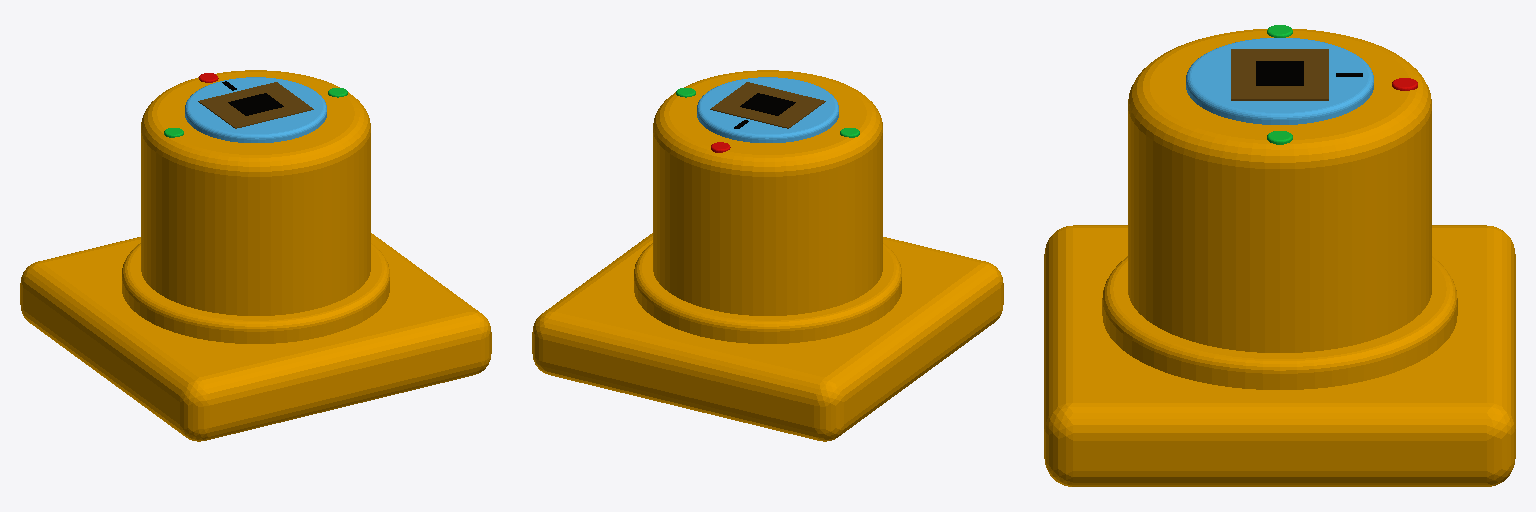
URDF robot description (lock):
<?xml version="1.0"?>
<!-- Generated by tools/build_assets.py - do not edit. -->
<robot name="lock">
  <link name="lock_base">
    <inertial><origin xyz="0.00000 0.00000 0.04750" rpy="0 0 0"/><mass value="2.0"/><inertia ixx="4.321e-03" ixy="0" ixz="0" iyy="4.321e-03" iyz="0" izz="5.633e-03"/></inertial>
    <visual><origin xyz="0 0 0" rpy="0 0 0"/><geometry><mesh filename="meshes/lock_plinth.obj" scale="1 1 1"/></geometry></visual>
    <visual><origin xyz="0 0 0" rpy="0 0 0"/><geometry><mesh filename="meshes/lock_housing.obj" scale="1 1 1"/></geometry></visual>
    <visual><origin xyz="0 0 0" rpy="0 0 0"/><geometry><mesh filename="meshes/lock_dot_red.obj" scale="1 1 1"/></geometry><material name="dot_red"><color rgba="0.85000 0.08000 0.06000 1.00000"/></material></visual>
    <visual><origin xyz="0 0 0" rpy="0 0 0"/><geometry><mesh filename="meshes/lock_dot_green.obj" scale="1 1 1"/></geometry><material name="dot_green"><color rgba="0.10000 0.75000 0.25000 1.00000"/></material></visual>
    <collision><origin xyz="0.00000 0.00000 0.01250" rpy="0.00000 0.00000 0.00000"/><geometry><box size="0.13000 0.13000 0.02500"/></geometry></collision>
    <collision><origin xyz="0.00000 0.00000 0.03250" rpy="0.00000 0.00000 0.00000"/><geometry><box size="0.08400 0.08400 0.01500"/></geometry></collision>
    <collision><origin xyz="0.03400 0.00000 0.06750" rpy="0.00000 0.00000 0.00000"/><geometry><box size="0.01600 0.08400 0.05500"/></geometry></collision>
    <collision><origin xyz="-0.03400 0.00000 0.06750" rpy="0.00000 0.00000 0.00000"/><geometry><box size="0.01600 0.08400 0.05500"/></geometry></collision>
    <collision><origin xyz="0.00000 0.03400 0.06750" rpy="0.00000 0.00000 0.00000"/><geometry><box size="0.05200 0.01600 0.05500"/></geometry></collision>
    <collision><origin xyz="0.00000 -0.03400 0.06750" rpy="0.00000 0.00000 0.00000"/><geometry><box size="0.05200 0.01600 0.05500"/></geometry></collision>
  </link>
  <link name="plug">
    <inertial><origin xyz="0.00000 0.00000 0.00000" rpy="0 0 0"/><mass value="0.08"/><inertia ixx="3.819e-05" ixy="0" ixz="0" iyy="3.819e-05" iyz="0" izz="3.605e-05"/></inertial>
    <visual><origin xyz="0 0 0" rpy="0 0 0"/><geometry><mesh filename="meshes/lock_plug.obj" scale="1 1 1"/></geometry></visual>
    <visual><origin xyz="0 0 0" rpy="0 0 0"/><geometry><mesh filename="meshes/lock_plug_funnel.obj" scale="1 1 1"/></geometry><material name="funnel"><color rgba="0.42000 0.30000 0.10000 1.00000"/></material></visual>
    <visual><origin xyz="0 0 0" rpy="0 0 0"/><geometry><mesh filename="meshes/lock_plug_hole.obj" scale="1 1 1"/></geometry><material name="keyway"><color rgba="0.03000 0.02500 0.02000 1.00000"/></material></visual>
    <collision><origin xyz="0.01300 0.00000 -0.02600" rpy="0.00000 0.00000 0.00000"/><geometry><box size="0.01000 0.03600 0.04200"/></geometry></collision>
    <collision><origin xyz="-0.01300 0.00000 -0.02600" rpy="0.00000 0.00000 0.00000"/><geometry><box size="0.01000 0.03600 0.04200"/></geometry></collision>
    <collision><origin xyz="0.00000 0.01010 -0.02600" rpy="0.00000 0.00000 0.00000"/><geometry><box size="0.01600 0.01580 0.04200"/></geometry></collision>
    <collision><origin xyz="0.00000 -0.01010 -0.02600" rpy="0.00000 0.00000 0.00000"/><geometry><box size="0.01600 0.01580 0.04200"/></geometry></collision>
    <collision><origin xyz="0.00000 0.00000 -0.05000" rpy="0.00000 0.00000 0.00000"/><geometry><box size="0.03600 0.03600 0.00600"/></geometry></collision>
    <collision><origin xyz="0.01725 0.00000 -0.00100" rpy="0.00000 0.00000 0.00000"/><geometry><box size="0.00150 0.03600 0.00800"/></geometry></collision>
    <collision><origin xyz="-0.01725 0.00000 -0.00100" rpy="0.00000 0.00000 0.00000"/><geometry><box size="0.00150 0.03600 0.00800"/></geometry></collision>
    <collision><origin xyz="0.00000 0.01575 -0.00100" rpy="0.00000 0.00000 0.00000"/><geometry><box size="0.03300 0.00450 0.00800"/></geometry></collision>
    <collision><origin xyz="0.00000 -0.01575 -0.00100" rpy="0.00000 0.00000 0.00000"/><geometry><box size="0.03300 0.00450 0.00800"/></geometry></collision>
    <collision><origin xyz="0.01328 0.00000 -0.00209" rpy="0.00000 0.81569 0.00000"/><geometry><box size="0.00300 0.02700 0.01167"/></geometry></collision>
    <collision><origin xyz="0.00000 0.00872 -0.00222" rpy="-0.95474 0.00000 0.00000"/><geometry><box size="0.03300 0.00300 0.01385"/></geometry></collision>
    <collision><origin xyz="-0.01328 0.00000 -0.00209" rpy="0.00000 -0.81569 0.00000"/><geometry><box size="0.00300 0.02700 0.01167"/></geometry></collision>
    <collision><origin xyz="0.00000 -0.00872 -0.00222" rpy="0.95474 0.00000 0.00000"/><geometry><box size="0.03300 0.00300 0.01385"/></geometry></collision>
  </link>
  <joint name="plug_joint" type="revolute">
    <parent link="lock_base"/><child link="plug"/>
    <origin xyz="0 0 0.09500" rpy="0 0 0"/><axis xyz="0 0 1"/>
    <limit lower="-1.62" upper="1.62" effort="5" velocity="3"/>
    <dynamics damping="0.02" friction="0.0"/>
  </joint>
</robot>

--- What the picture shows (computed from the rendered views, not written in the file) ---
Views: 3 orthographic renders of the robot side by side, from view 1: azimuth 30°, elevation 25°; view 2: azimuth 150°, elevation 25°; view 3: azimuth 270°, elevation 25°.
Model lock with 2 links and 1 joints (1 revolute), rooted at lock_base, posed every joint at zero.
Visible links, largest first — view 1: lock_base, plug; view 2: lock_base, plug; view 3: lock_base, plug.
Link boxes in pixels (left/top/right/bottom): lock_base: left=20, top=70, right=491, bottom=441; plug: left=185, top=77, right=326, bottom=142; lock_base: left=532, top=70, right=1003, bottom=441; plug: left=697, top=77, right=838, bottom=142; lock_base: left=1044, top=25, right=1515, bottom=486; plug: left=1186, top=38, right=1373, bottom=124.
Size in the robot's own frame: 0.13 by 0.13 by 0.0987 metres.
7 mesh visuals loaded from 7 distinct referenced files (7 OBJ).
